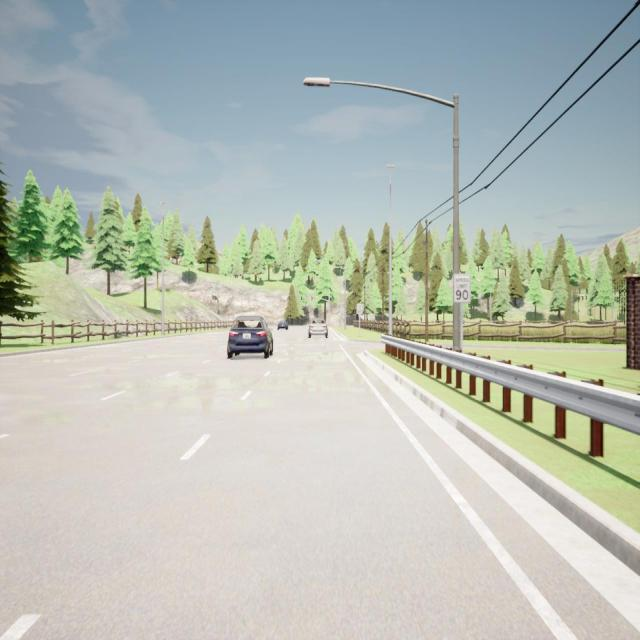Traffic_Signs: (454, 276, 471, 301), (356, 303, 363, 314)
Vehicle: (227, 315, 273, 359), (308, 317, 328, 338), (277, 320, 288, 330)
